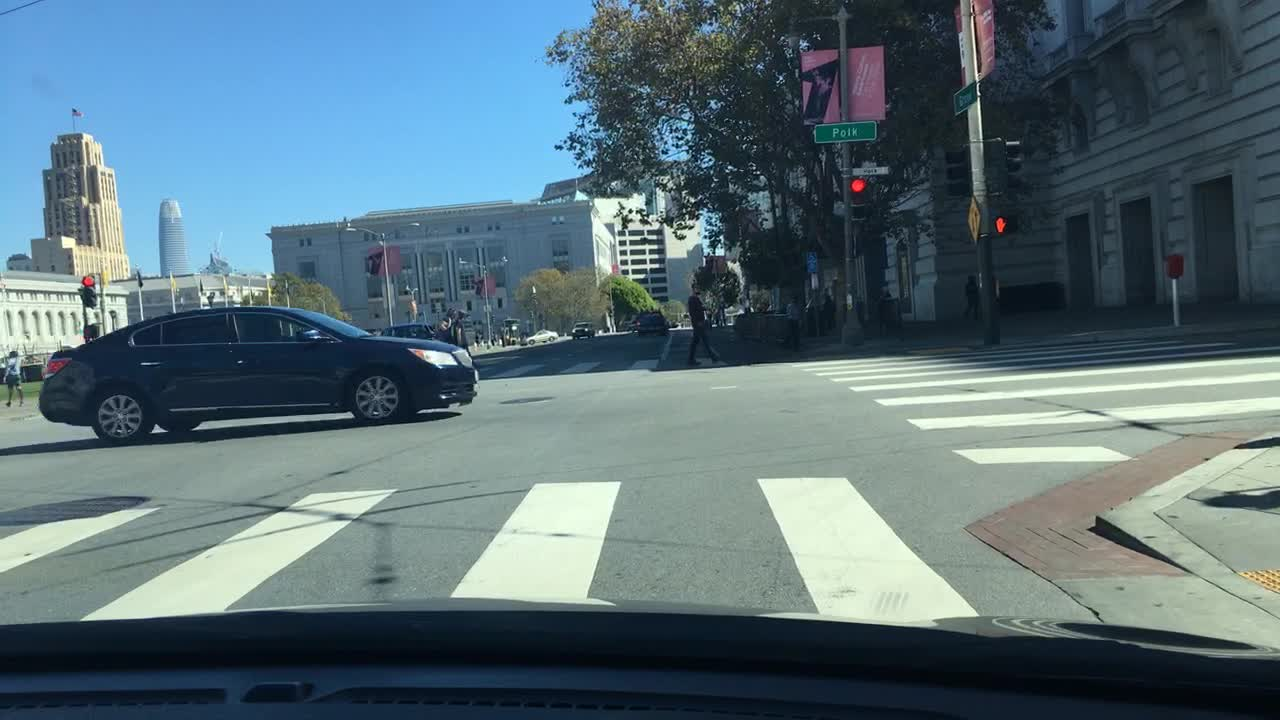car: (37, 301, 479, 442), (631, 306, 670, 333), (376, 321, 436, 337), (521, 327, 557, 347), (570, 320, 595, 339)
person: (685, 280, 725, 369), (455, 307, 479, 374), (782, 296, 801, 355), (4, 348, 22, 408), (436, 303, 456, 341), (822, 289, 837, 333), (964, 272, 979, 316)
traffic light: (991, 136, 1021, 193), (944, 146, 973, 198), (850, 177, 866, 217), (80, 275, 96, 306), (992, 209, 1010, 236)
traffic sign: (812, 121, 876, 144), (951, 81, 978, 113), (966, 194, 982, 239), (854, 166, 893, 176), (806, 251, 818, 271)
